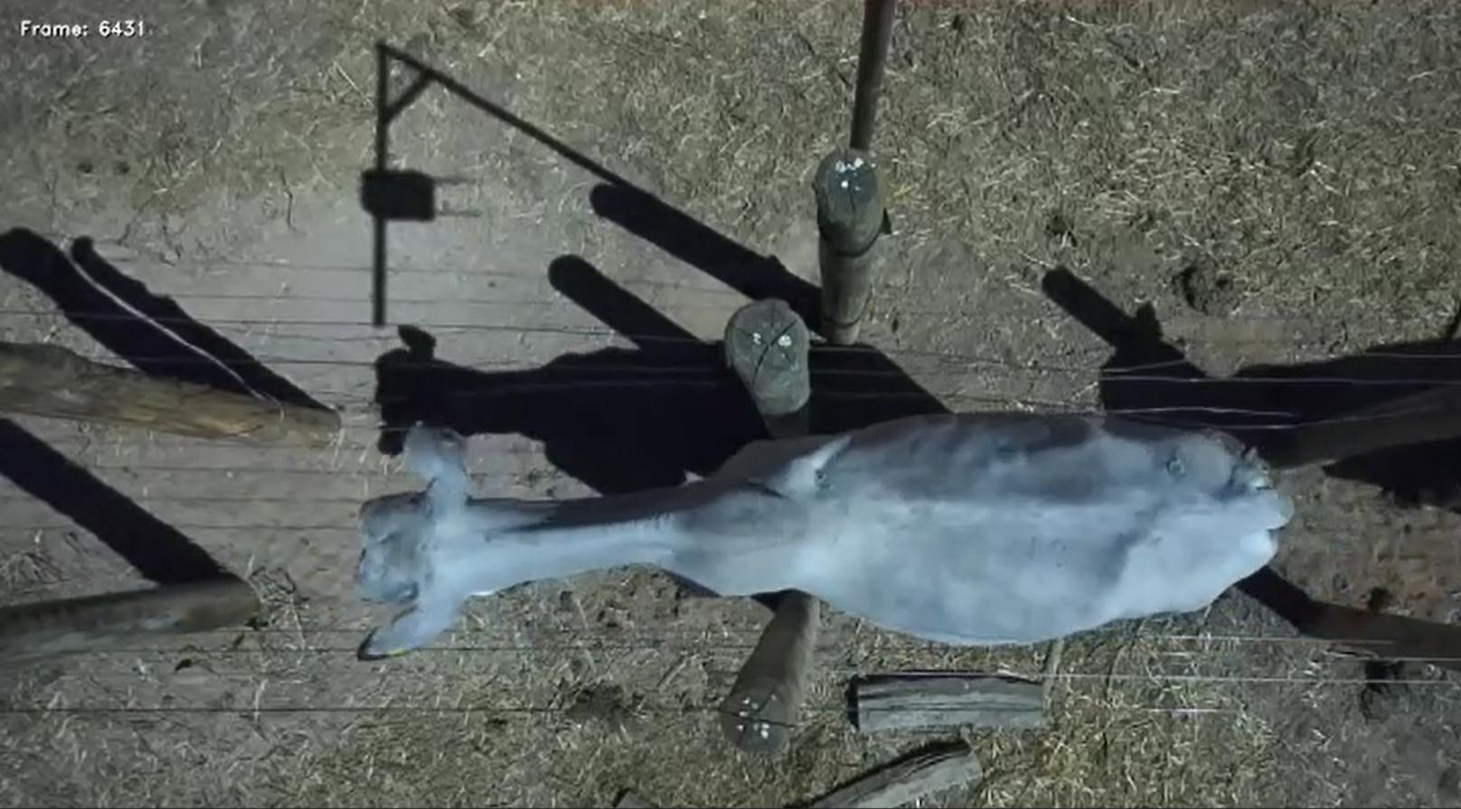cattle: (351, 393, 1329, 666)
